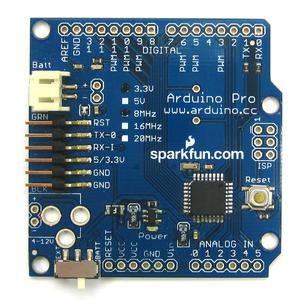duino: (20, 12, 290, 290)
